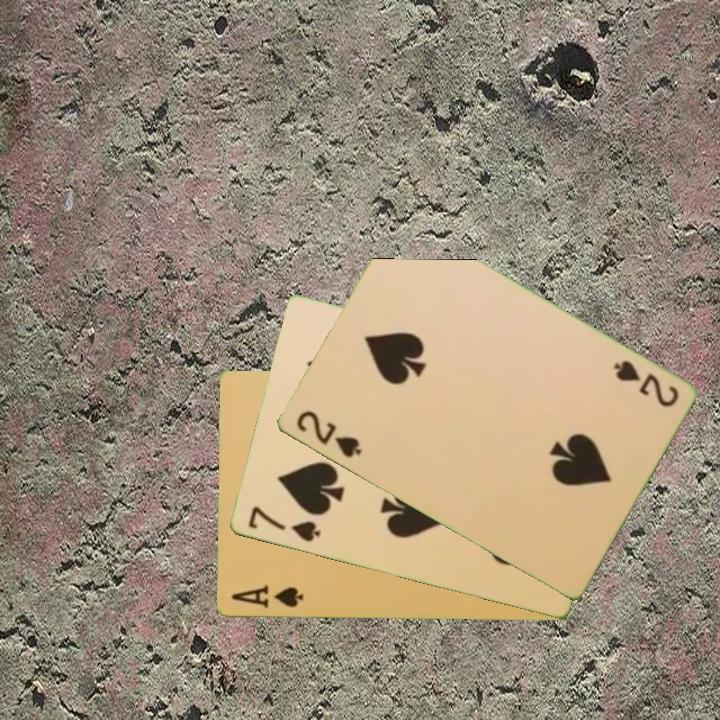2s: (292, 407, 364, 461), (609, 357, 682, 410)
7s: (244, 503, 323, 545)
As: (227, 582, 305, 612)
